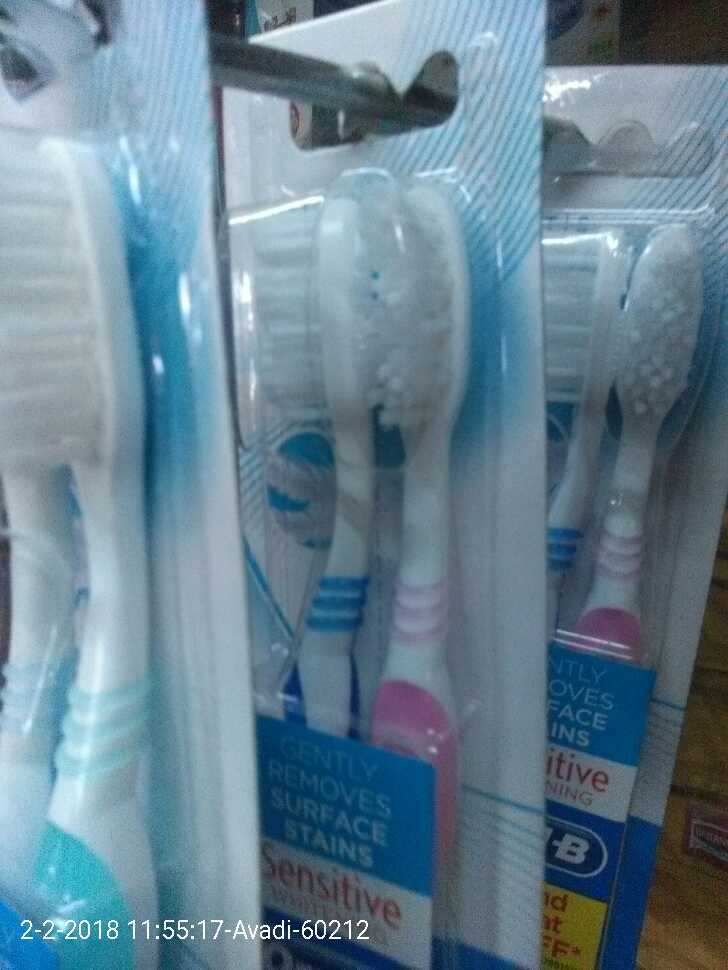pharmacy: (252, 204, 489, 970)
